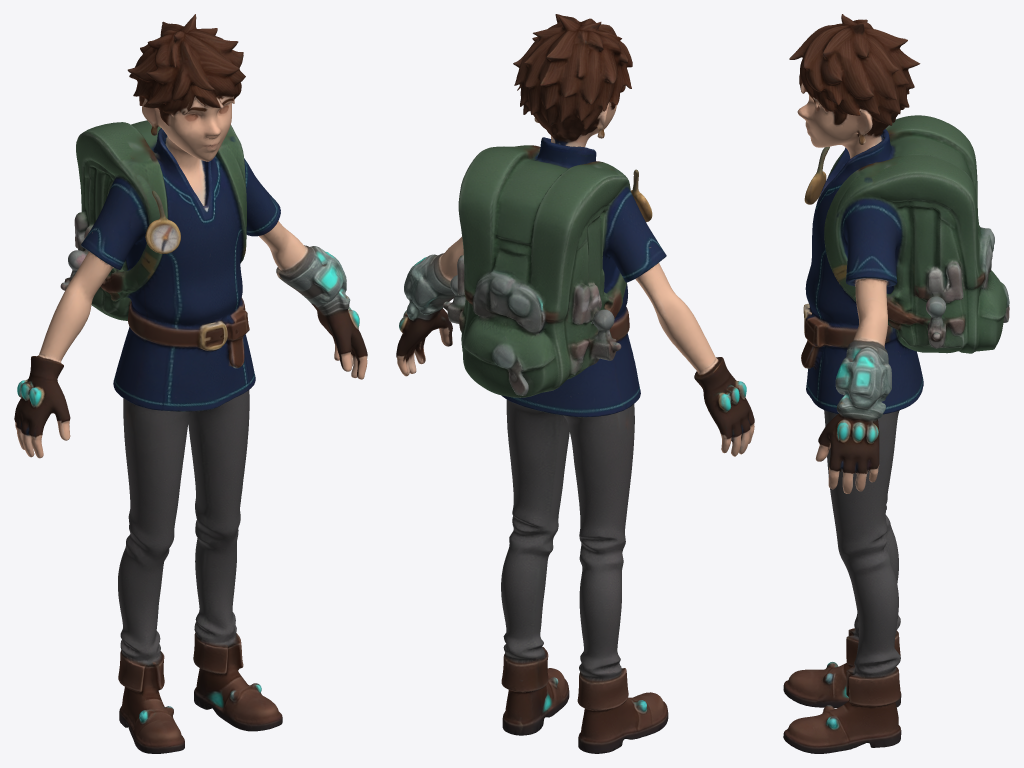
The model's file is Meshy_AI_Young_Explorer_with_C_0926205022_generate.glb.
The picture shows the model from 3 angles, left to right: view 1: azimuth 30°, elevation 25°; view 2: azimuth 150°, elevation 25°; view 3: azimuth 270°, elevation 25°; orthographic projection.
Size of the model in its own units: 0.9624 by 1.9 by 0.5537.
Materials: 1 (1 with a texture image).
